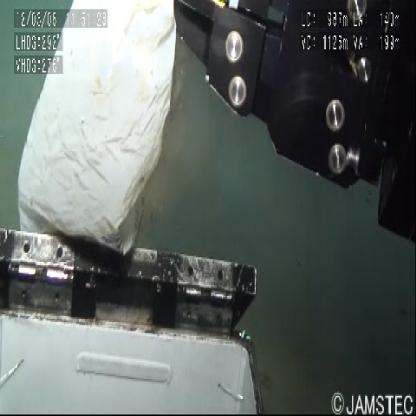Rov: (174, 2, 415, 245), (1, 219, 272, 416)
Rác: (14, 2, 177, 251)
